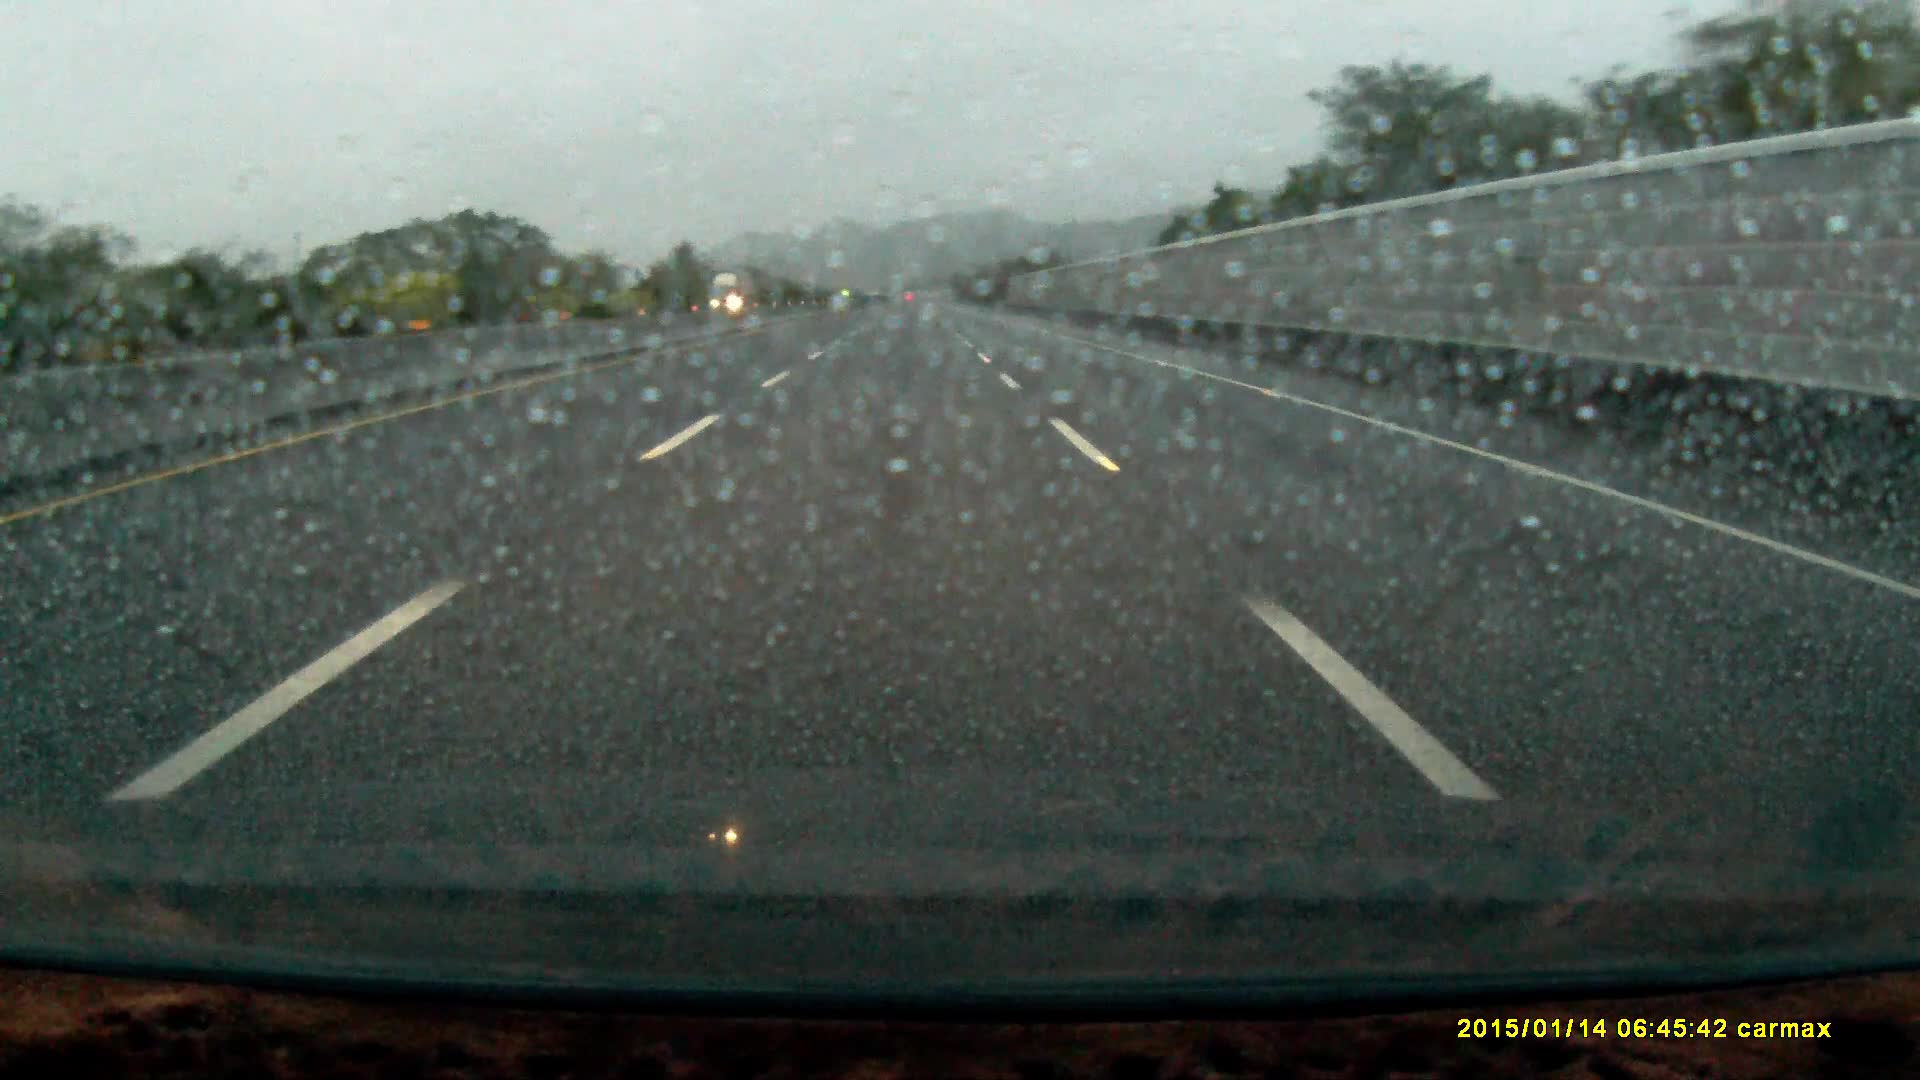vehicle: (707, 276, 752, 318)
